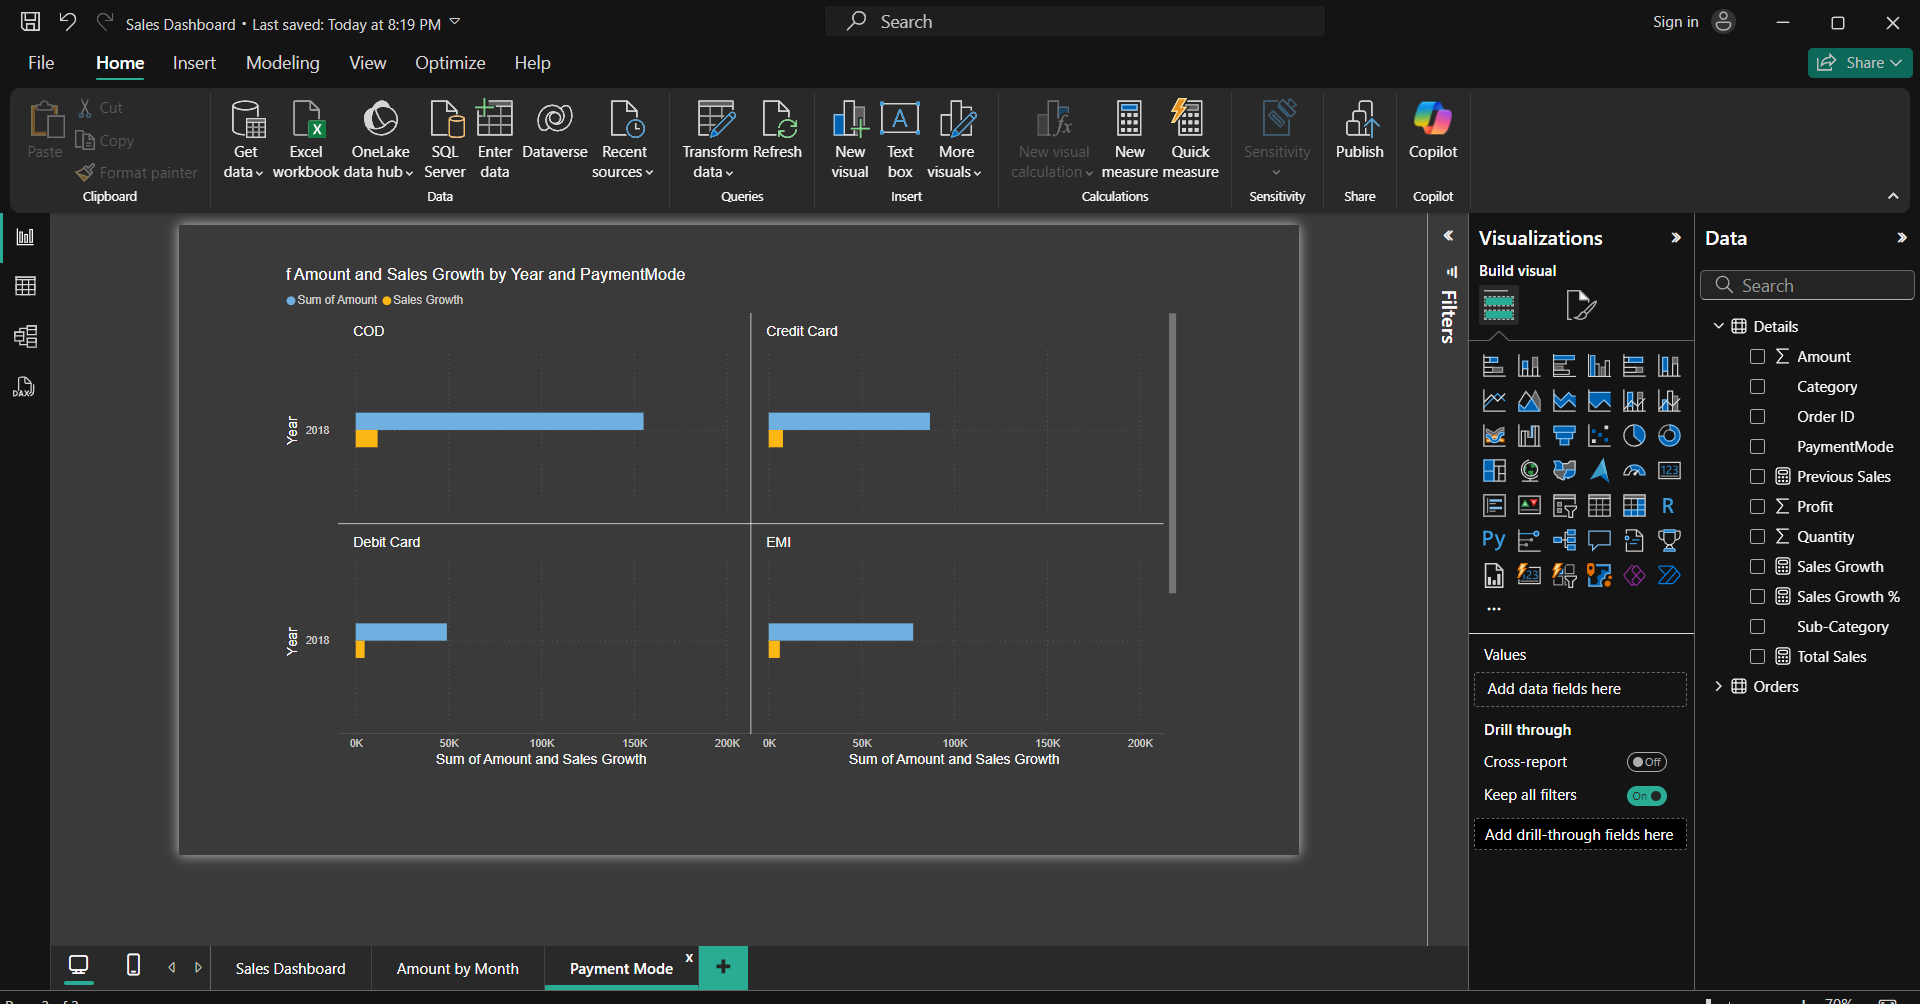

This screenshot's page, from the dashboard's own definition file:
{"tool":"powerbi","page":{"name":"Payment Mode","canvas":[1280,720],"ordinal":2},"visuals":[{"type":"clusteredBarChart","title":"f Amount and Sales Growth by Year and PaymentMode","fields":{"Category":["Orders.Order Date.Variation.Date Hierarchy.Year","Orders.Order Date.Variation.Date Hierarchy.Quarter","Orders.Order Date.Variation.Date Hierarchy.Month","Orders.Order Date.Variation.Date Hierarchy.Day","Details.Category"],"Y":["Sum(Details.Amount)","Details.Sales Growth"],"Rows":["Details.PaymentMode"]},"box":[117.7,45.7,1027.4,579.4],"z":0}]}

Visuals, with their boxes on the page's 1280x720 design canvas (x1, y1, x2, y2). These are canvas units, not pixel positions in the 1920x1004 screenshot, which may show the page scaled, cropped or inside an application window:
"f Amount and Sales Growth by Year and PaymentMode" clusteredBarChart: l=118, t=46, r=1145, b=625
